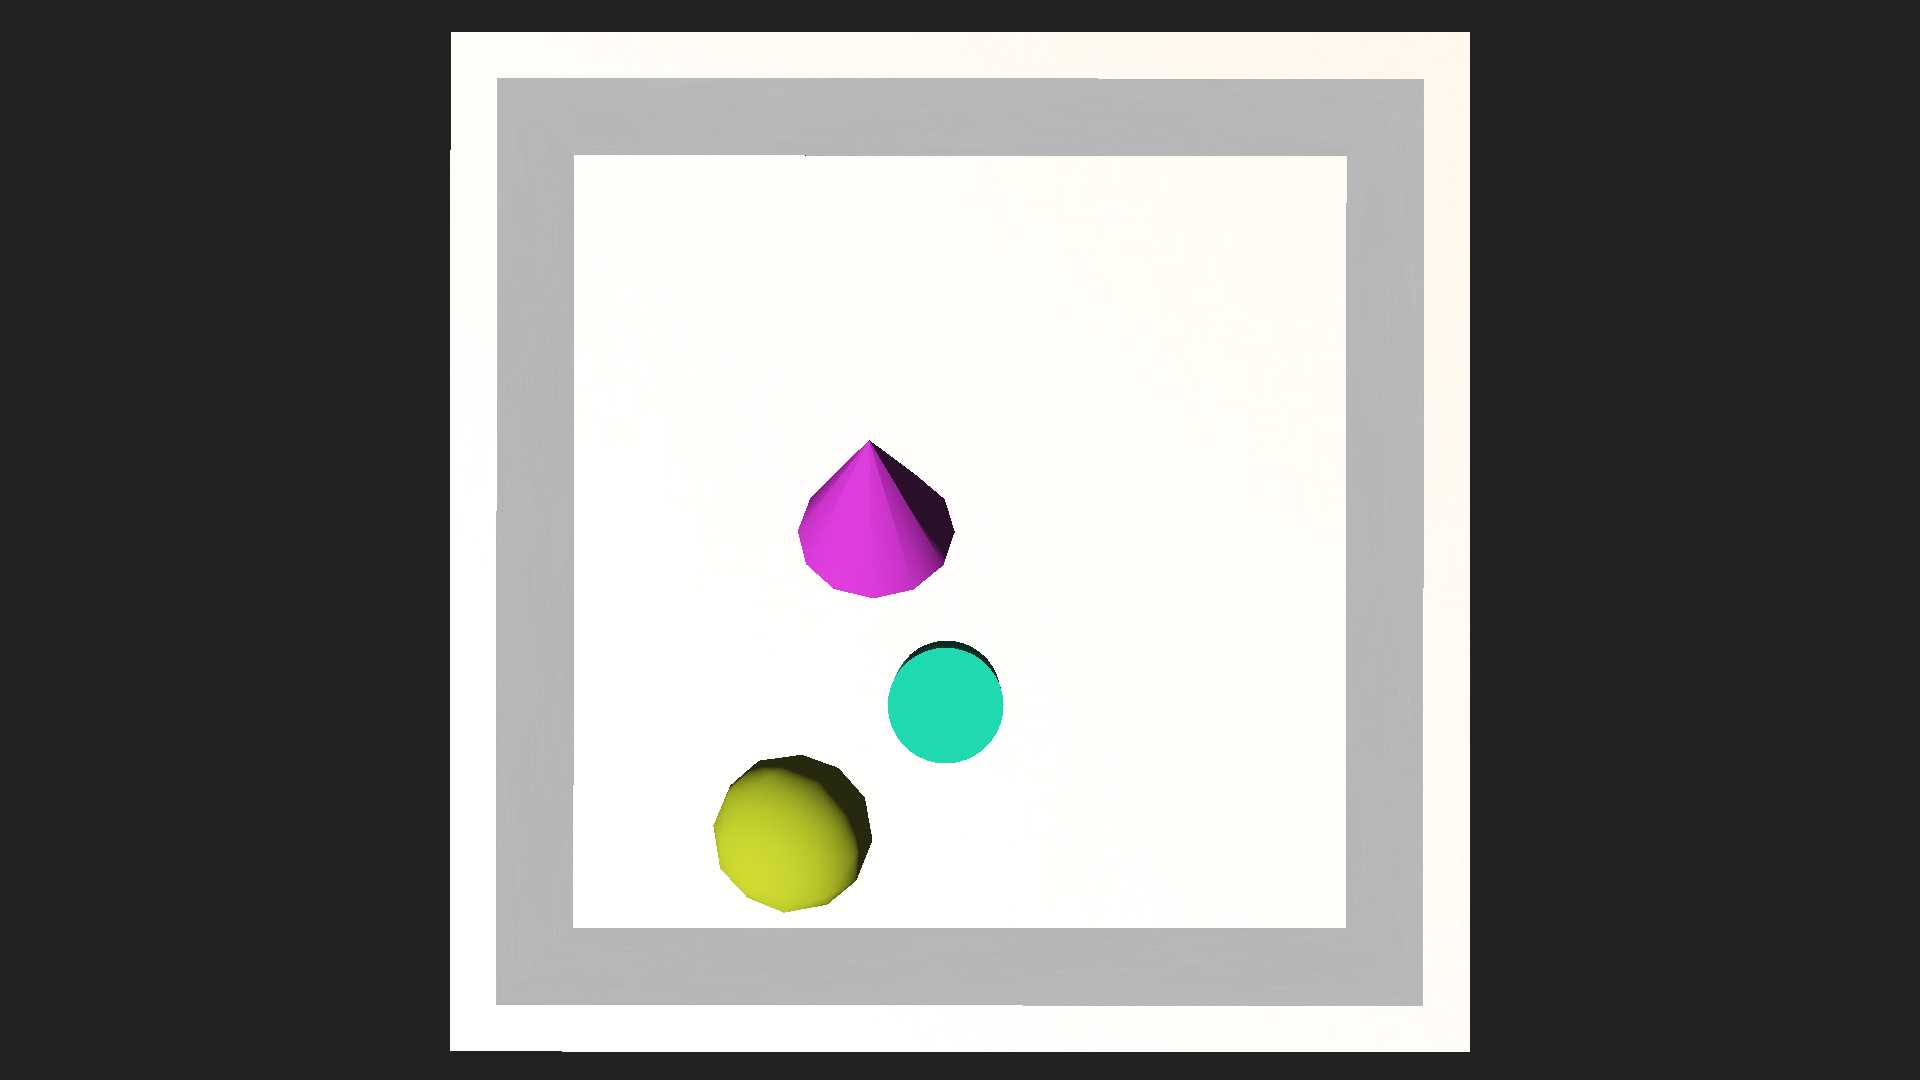cone: (887, 640, 1004, 762)
cylinder: (789, 373, 947, 595)
sphere: (712, 752, 872, 913)
